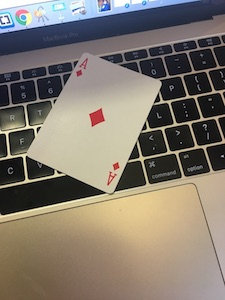AceOfDiamonds: (25, 50, 163, 195)
